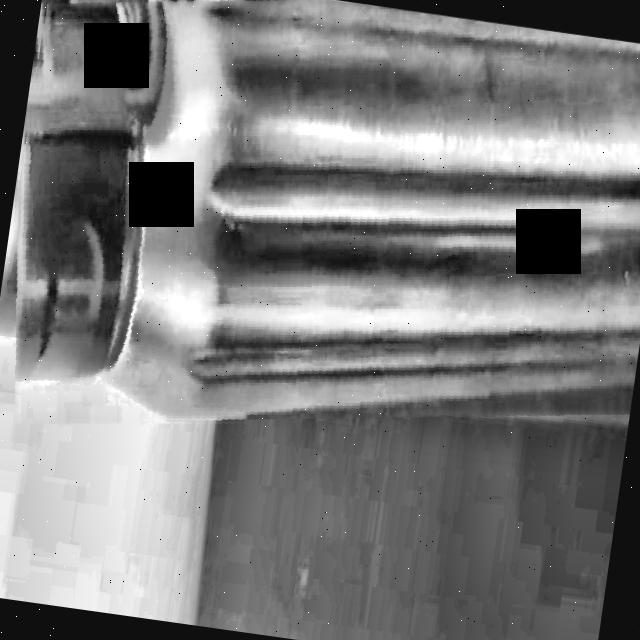bottle: (15, 0, 640, 420)
